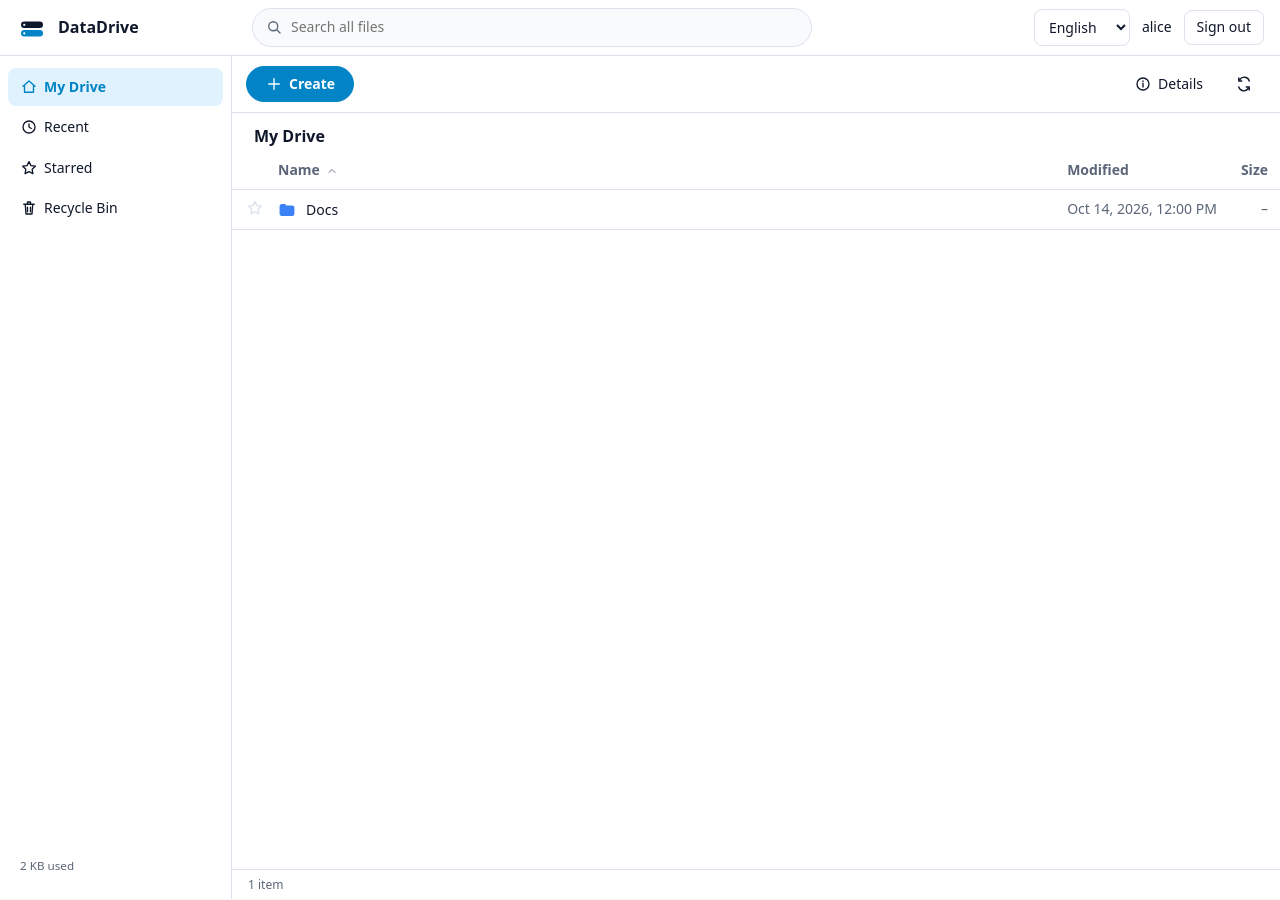
browsing › opens folders on double click and navigates back with the path
The width and height of the screenshot is (1280, 900).
Expected: the element named "Actions" is shown, [232, 56, 1279, 113]
Double-click the row "Docs Oct 14, 2026, 12:00 PM –" at {"x": 756, "y": 209}, box [232, 189, 1279, 230]
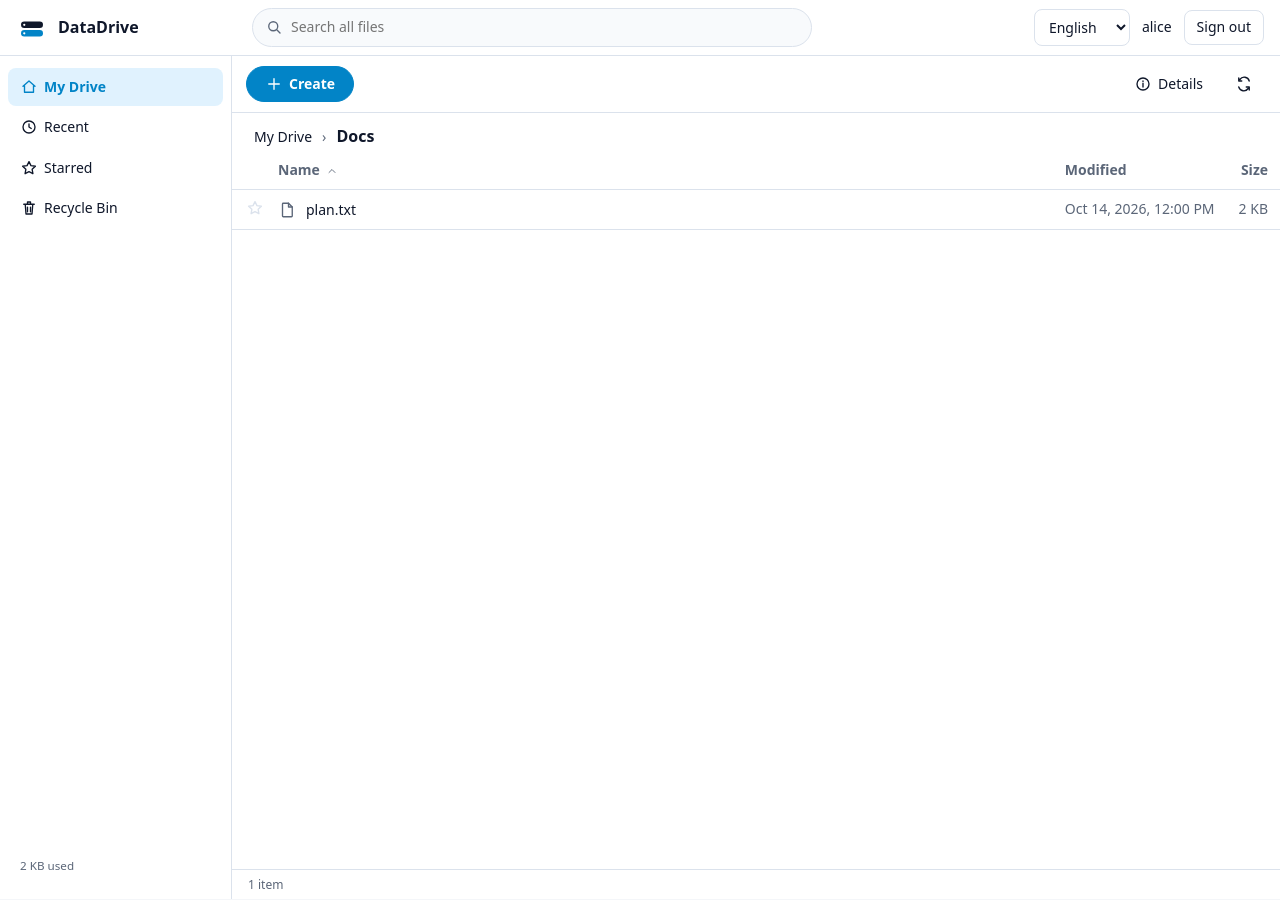
Expected: the row "plan.txt Oct 14, 2026, 12:00 PM 2 KB" is shown, [232, 189, 1279, 230]
Click the 2nd button "My Drive". click: {"x": 283, "y": 137}
box: [248, 125, 318, 149]
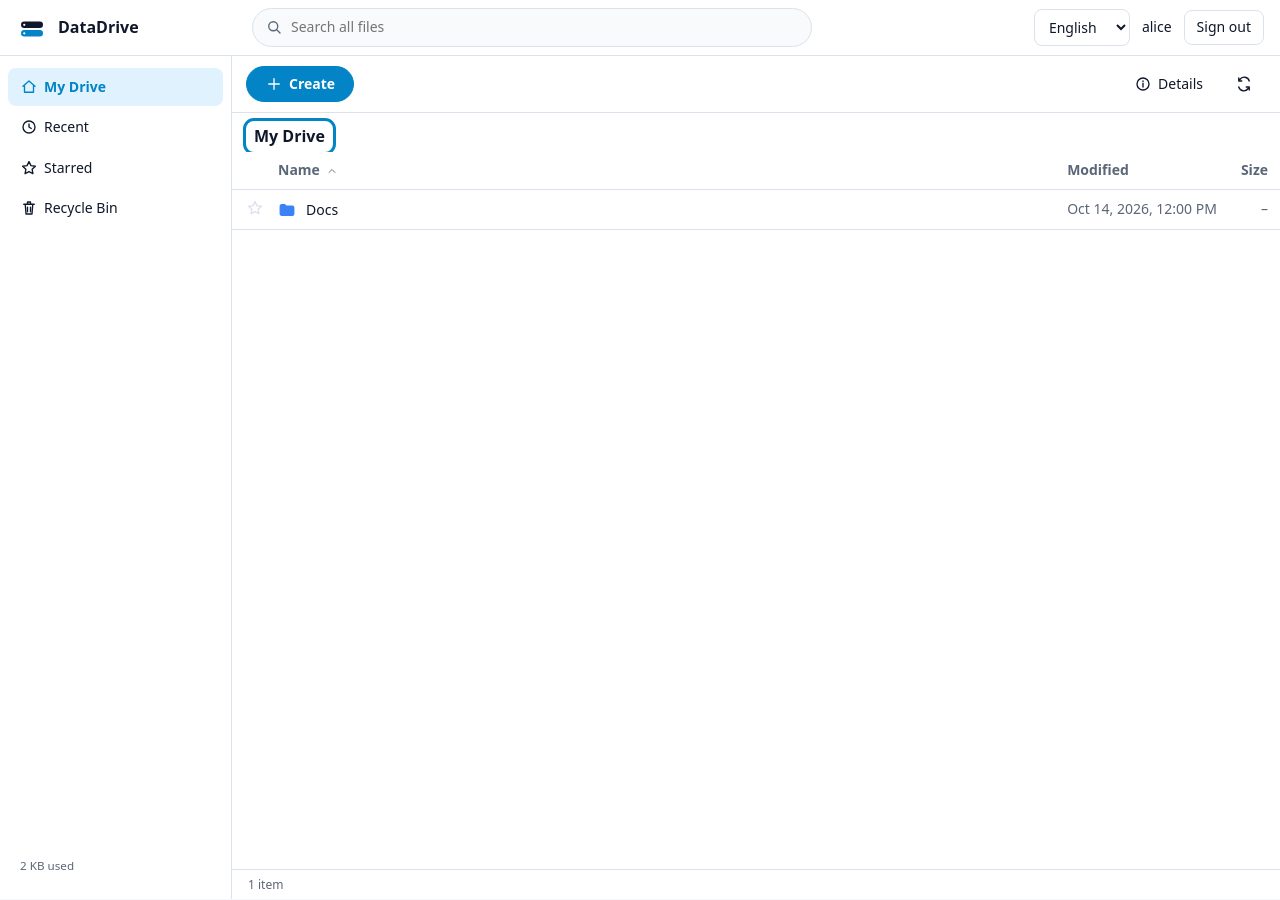
Expected: the row "Docs Oct 14, 2026, 12:00 PM –" is shown, [232, 189, 1279, 230]
Expected: the text "plan.txt" is gone
